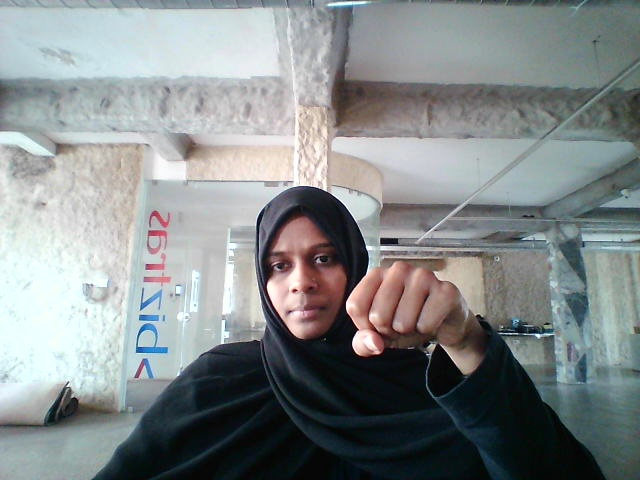YES: (345, 252, 483, 416)
